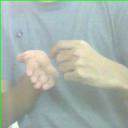hand: (51, 38, 127, 91), (15, 49, 59, 91)
